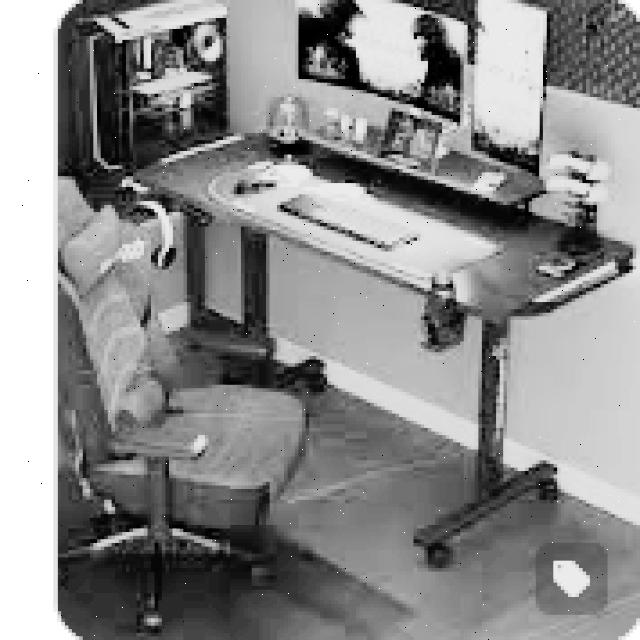book: (58, 173, 316, 629)
table: (129, 122, 640, 564)
